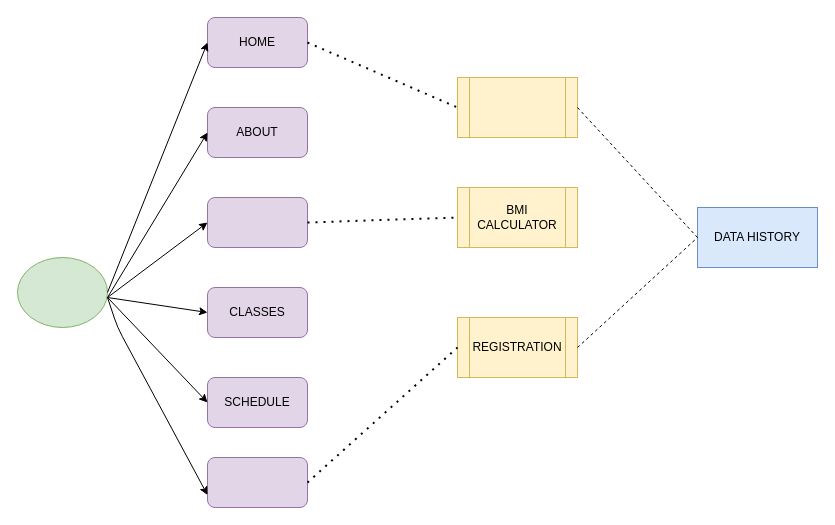
The diagram is 835 pixels wide and 525 high, and some of its shapes have lost their labels. The centre of each missing label's shape, as x and y in pixels:
Fitness Nation: [62,292]
PRICE: [257,482]
SERVICES: [257,222]
SIGN IN: [517,107]
